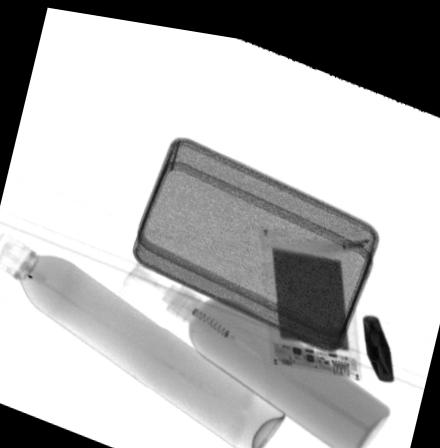Lighter: (362, 299, 393, 369)
Powerbank: (258, 217, 362, 367)
Sprayer: (0, 230, 287, 448)
